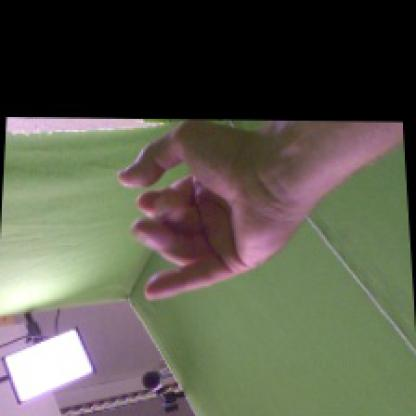Hand: (116, 119, 304, 299)
